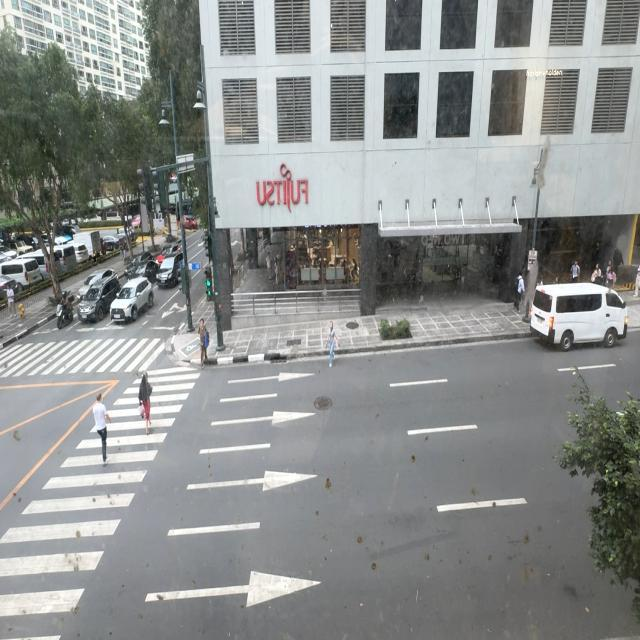jaywalking: (325, 321, 339, 364)
waiting: (199, 318, 209, 366)
